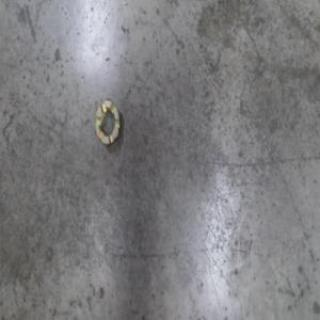Nuttrack_idkeyframe: (93, 96, 122, 149)
